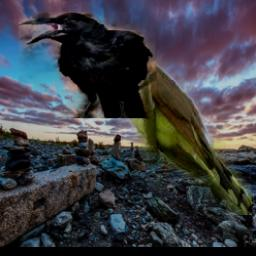Crow: (19, 13, 157, 119)
Cuckoo: (99, 43, 253, 215)
